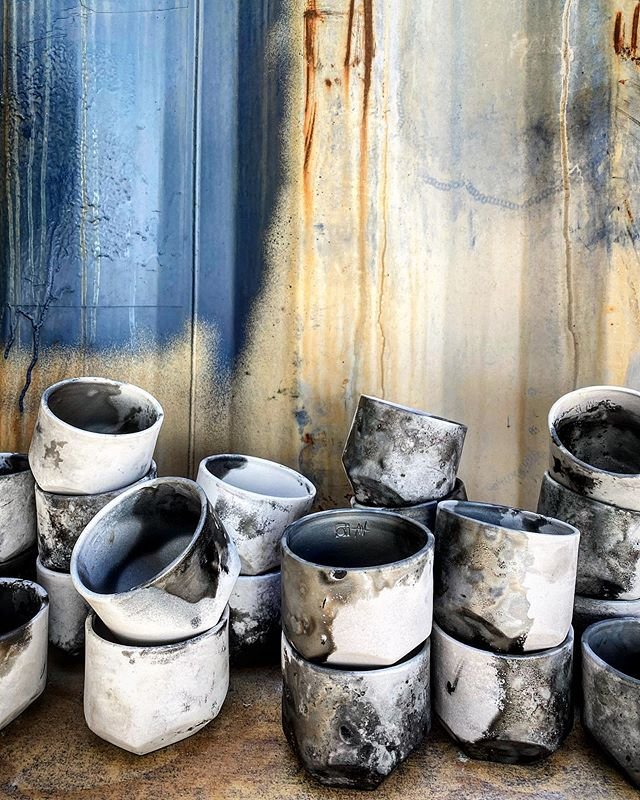trash: (54, 381, 632, 800)
wall: (1, 1, 605, 403)
